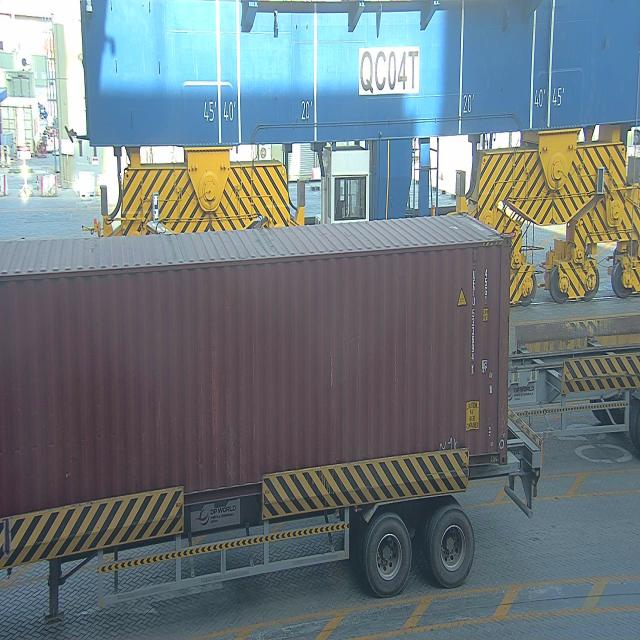dent: (12, 436, 61, 455)
